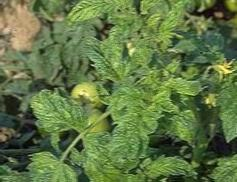Tomato leaf yellow virus: (107, 99, 158, 170), (26, 87, 88, 139), (155, 90, 207, 149), (138, 150, 199, 182), (18, 150, 78, 182), (212, 72, 237, 147), (62, 0, 126, 28), (209, 153, 237, 182)
